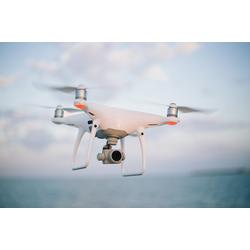drone: (22, 83, 215, 178)
